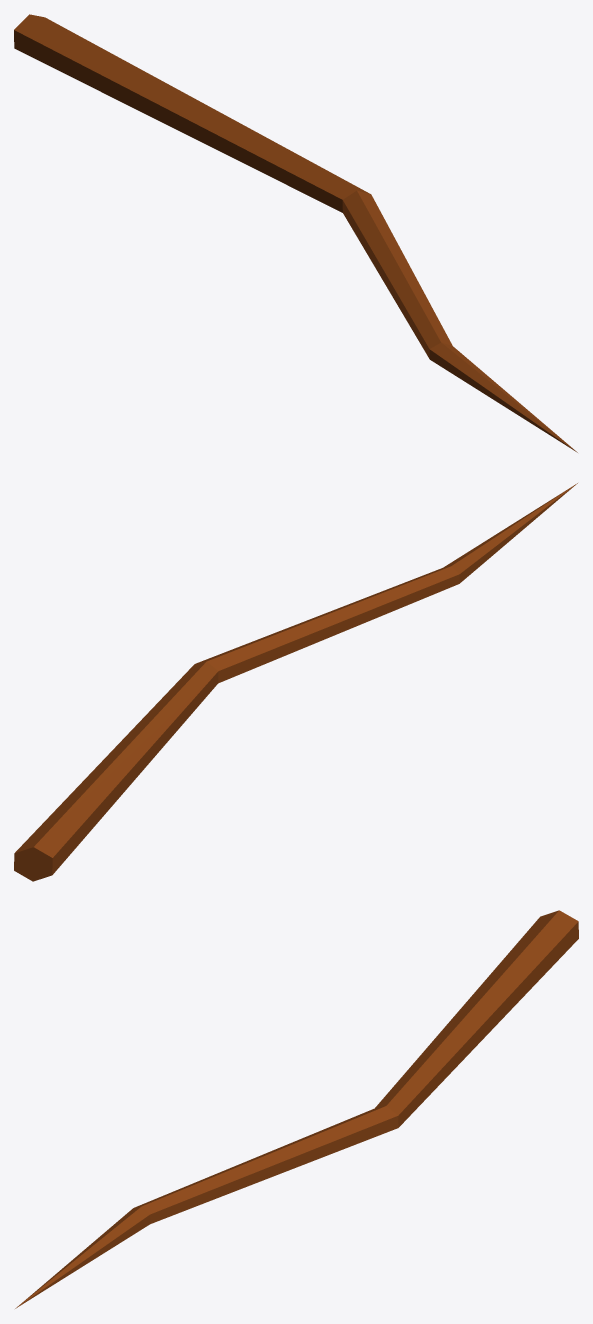
Rendered from Vegetation_Tree_Roots_Vines_Snaking_05.FBX.
3 renders of one model, top to bottom at view 1: azimuth 30°, elevation 25°; view 2: azimuth 150°, elevation 25°; view 3: azimuth 330°, elevation 25°, orthographic. The views are drawn at different scales.
Visible parts, largest first — view 1: Vegetation_Tree_Roots_Vines_Snaking_05; view 2: Vegetation_Tree_Roots_Vines_Snaking_05; view 3: Vegetation_Tree_Roots_Vines_Snaking_05.
Part boxes in pixels (x1=…): Vegetation_Tree_Roots_Vines_Snaking_05: x1=14, y1=14, x2=577, y2=452; Vegetation_Tree_Roots_Vines_Snaking_05: x1=14, y1=483, x2=577, y2=881; Vegetation_Tree_Roots_Vines_Snaking_05: x1=15, y1=910, x2=578, y2=1308.
Bounding box in the file's own units: 566 × 177 × 4920.
